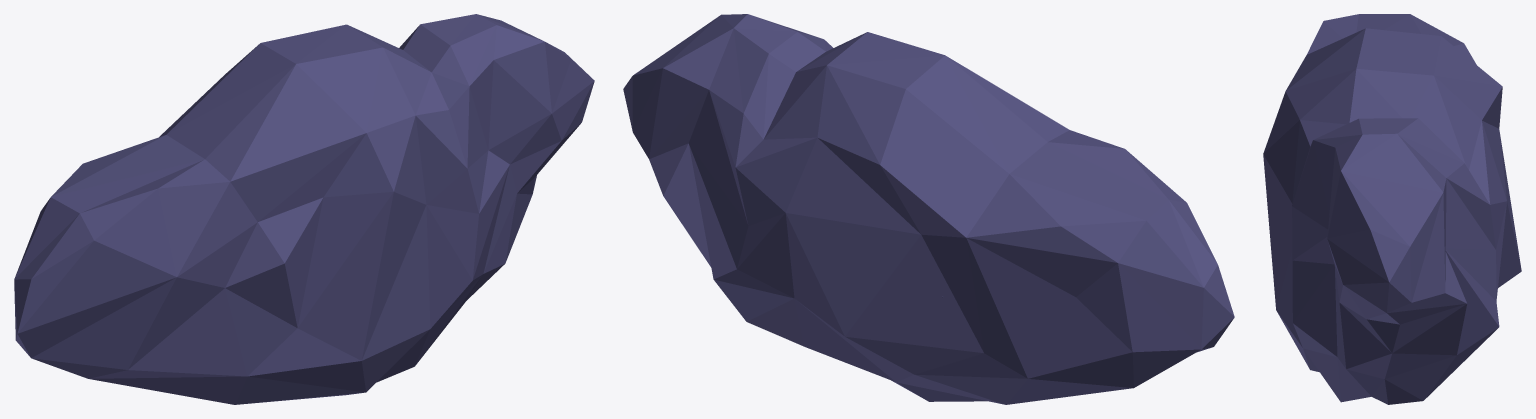
File: PuffyClouds.fbx
3 renders of one model, left to right at view 1: azimuth 30°, elevation 25°; view 2: azimuth 150°, elevation 25°; view 3: azimuth 270°, elevation 25°, orthographic.
Visible parts, largest first — view 1: Cloud_1; view 2: Cloud_1; view 3: Cloud_1.
Boxes of the visible parts, box(x1,y1,x2,y2) form: Cloud_1: box(14, 14, 594, 404); Cloud_1: box(623, 14, 1234, 404); Cloud_1: box(1263, 14, 1521, 404).
Bounding box in the file's own units: 20.34 × 11 × 7.61.
